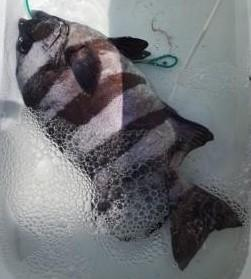fish: (16, 11, 246, 271)
